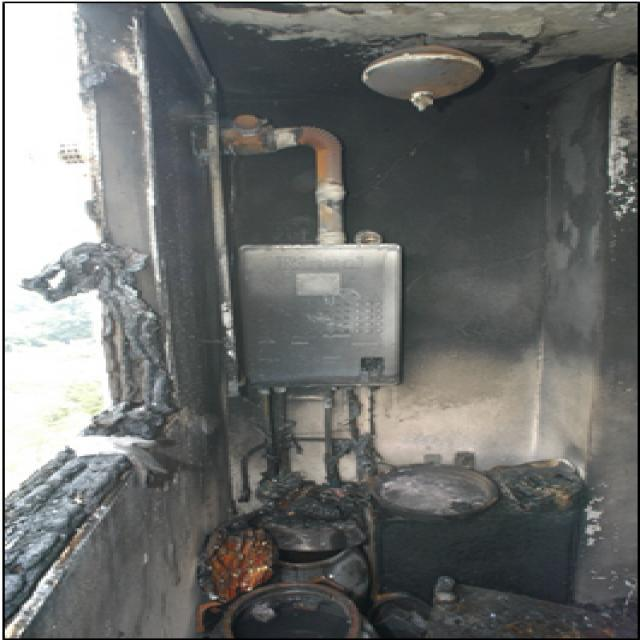Boiler: (228, 242, 416, 398)
